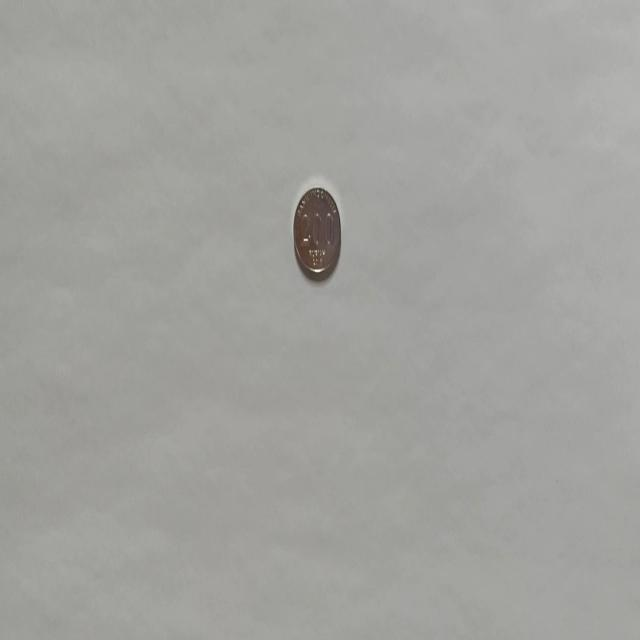dua ratus rupiah: (292, 185, 342, 280)
